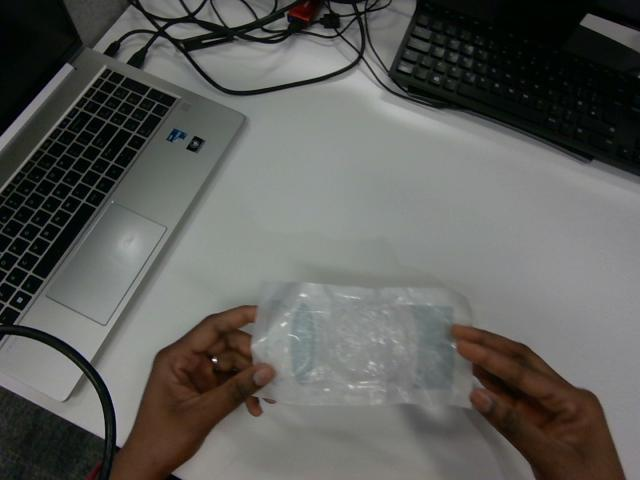gallipot: (251, 282, 471, 406)
